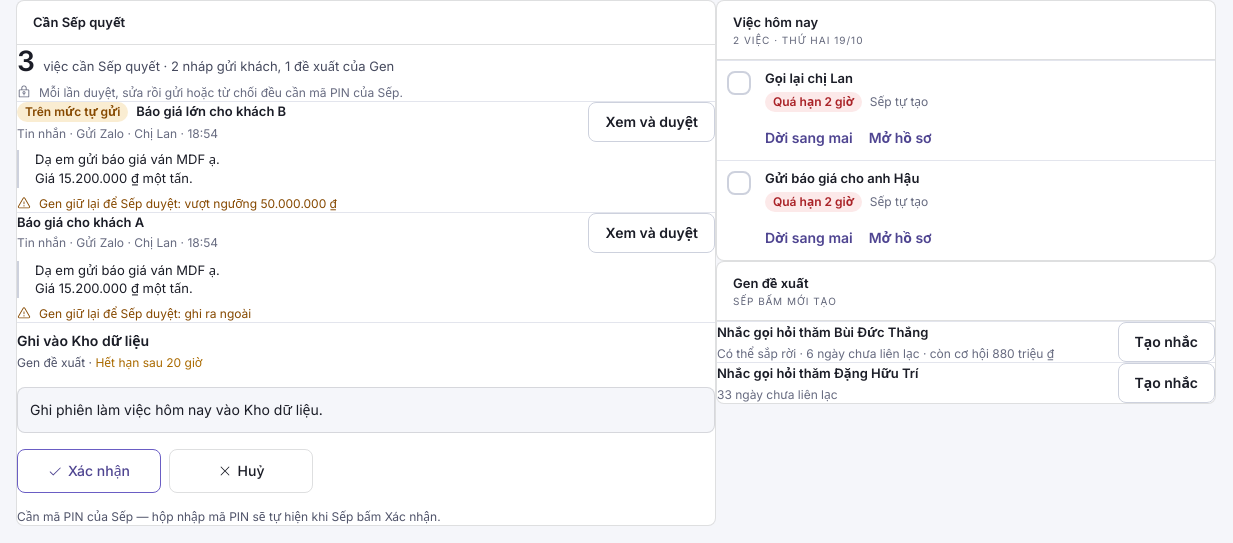
Test: Việc (/owner/viec) › tick Xong ⇒ PATCH status=done và việc biến mất; Dời sang mai ⇒ PATCH due_at sau hôm nay
The width and height of the screenshot is (1233, 543).
Click the checkbox named "Xong: Gọi lại chị Lan" at (739, 83), box [717, 61, 761, 105]
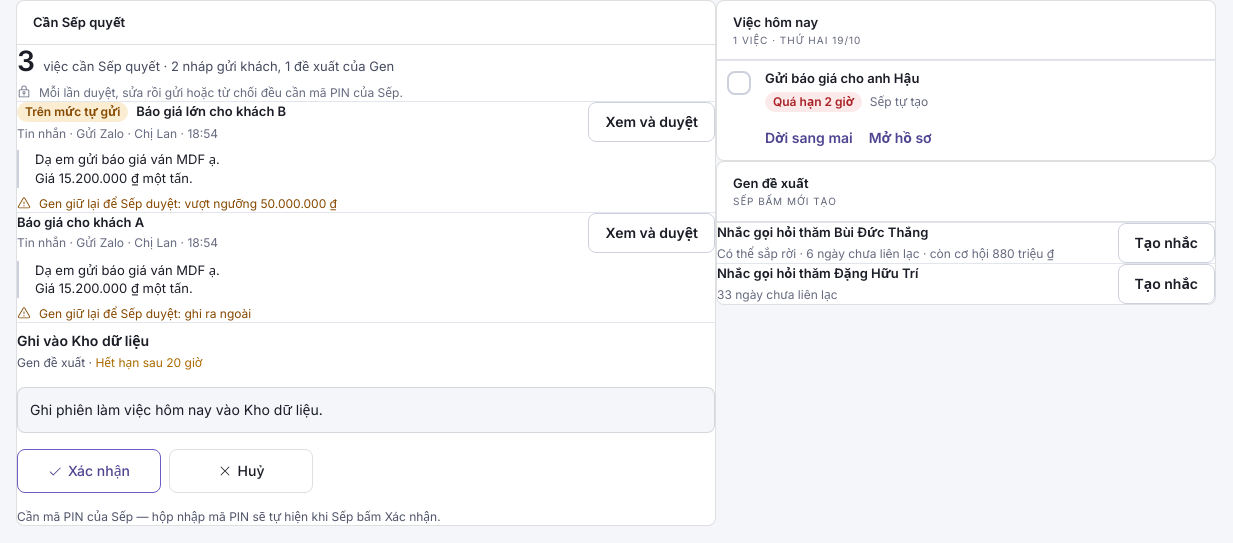
Now the text "Gọi lại chị Lan" is gone
Click the button "Dời sang mai" at (809, 138), box [765, 116, 853, 160]
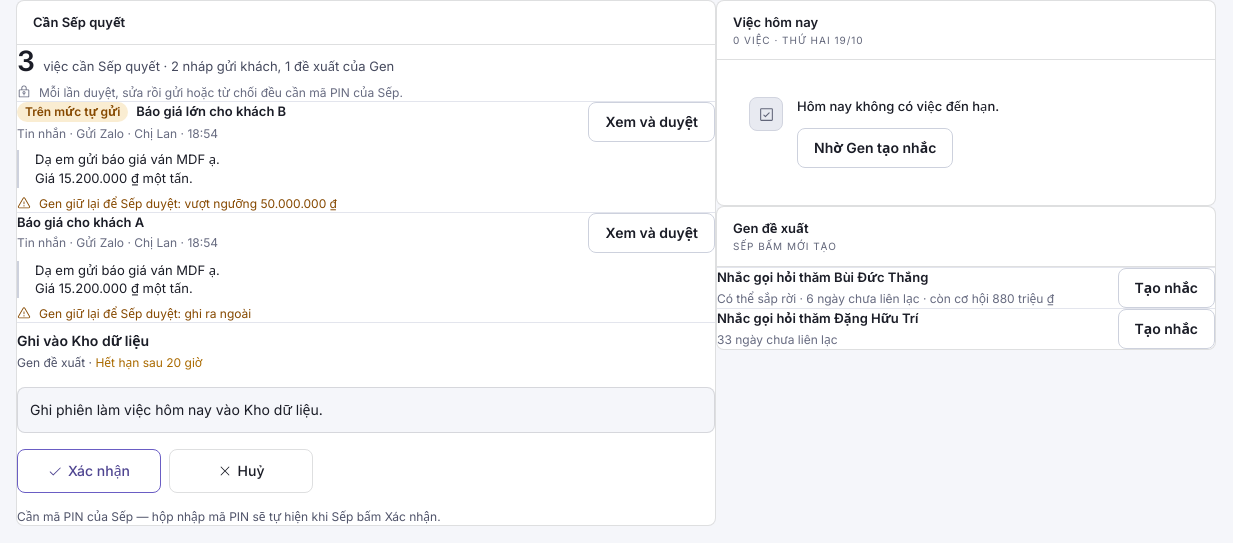
Now the text "Gửi báo giá cho anh Hậu" is gone
Now the text "Hôm nay không có việc đến hạn." is shown, box [797, 98, 999, 114]
